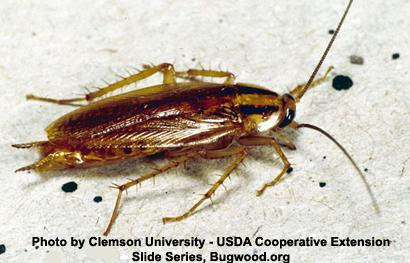cockroach: (34, 69, 304, 176)
